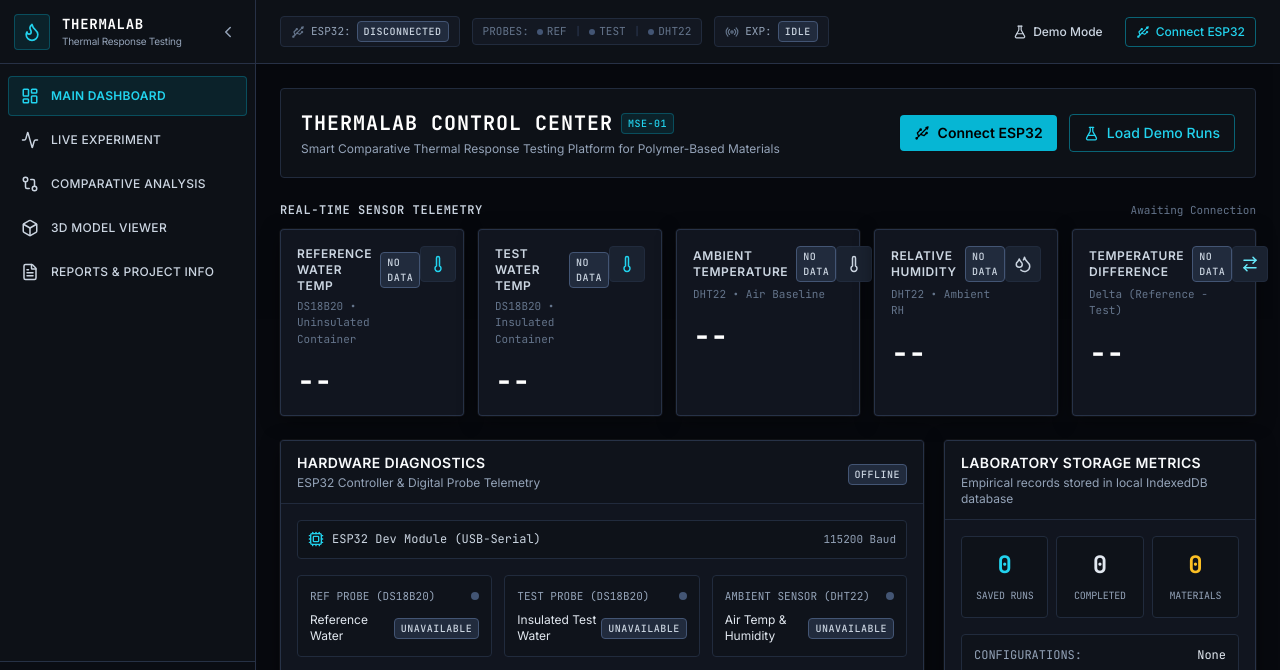
it: THERMALAB User Interface & Navigation › activates Demo Mode and renders the explicit DEMO DATA disclaimer banner
What coordinates should you click on to do the following:
click the button "Demo Mode"
I would click on:
 (1058, 32)
Its box is [1003,18,1113,46].
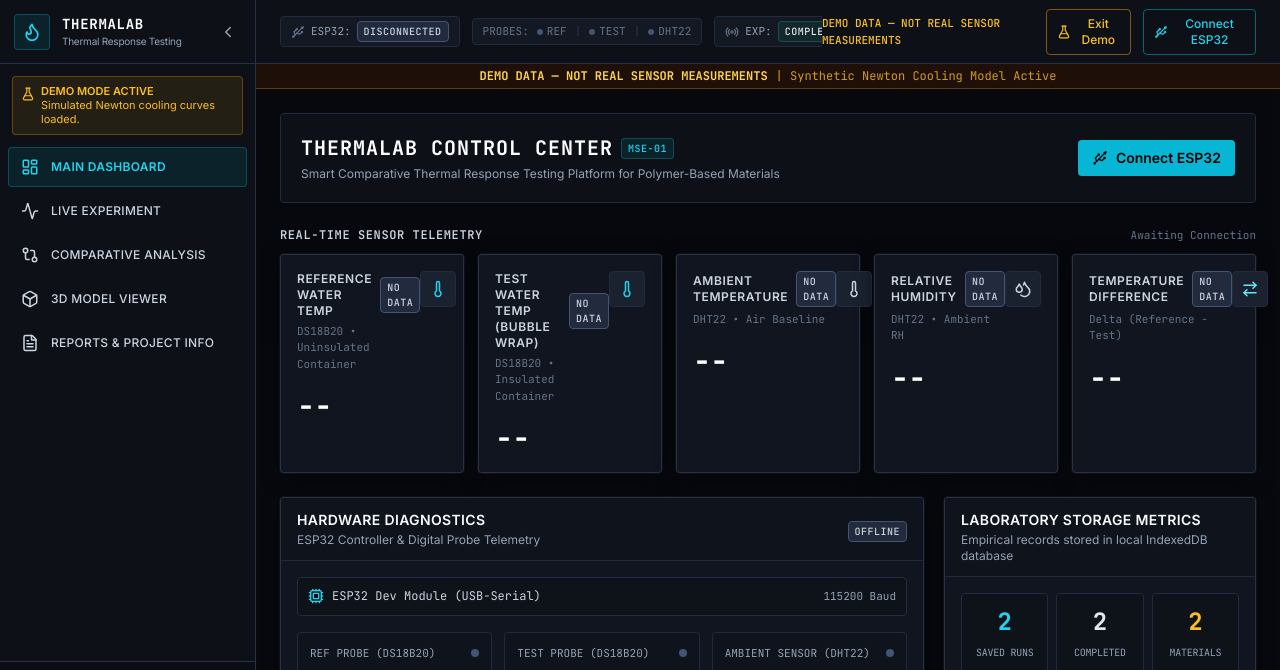
Check: the text "DEMO DATA — NOT REAL SENSOR MEASUREMENTS" in the row of "EXP:" is shown, box [822,16,1000,46]
